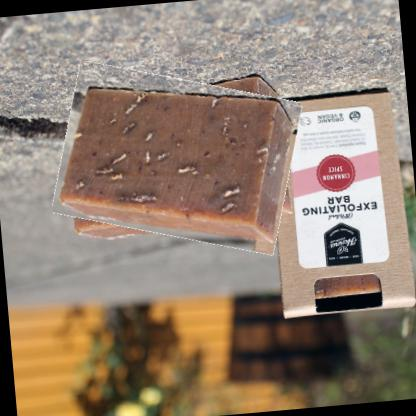soap: (47, 56, 306, 260)
